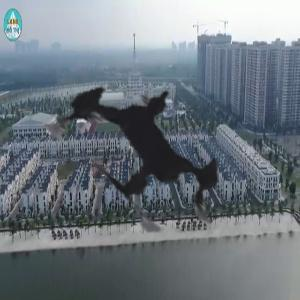drone: (5, 7, 295, 297)
